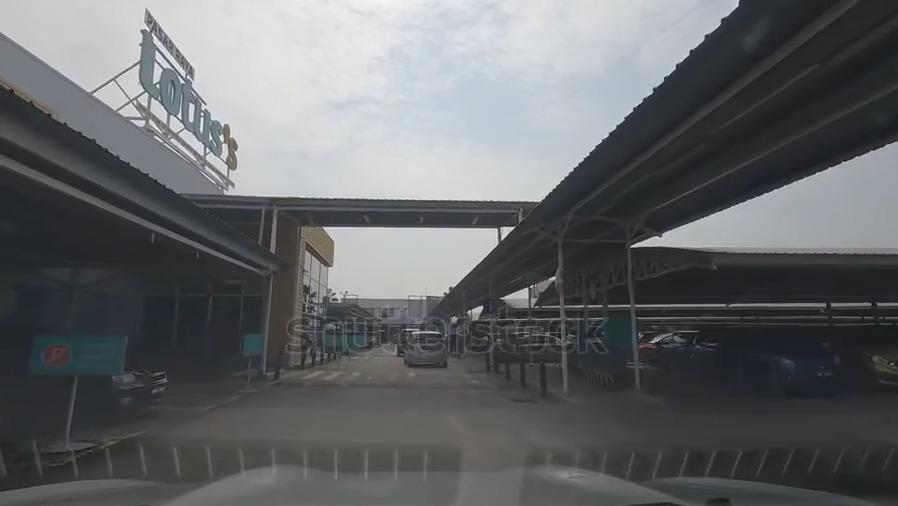car: (3, 319, 169, 419), (697, 326, 841, 397), (840, 323, 898, 386), (501, 331, 563, 358), (639, 331, 691, 359), (408, 331, 445, 363), (398, 327, 415, 354)
manhole: (506, 393, 537, 404)
pedestrian: (288, 368, 491, 375)
speedbump: (273, 378, 505, 391)
